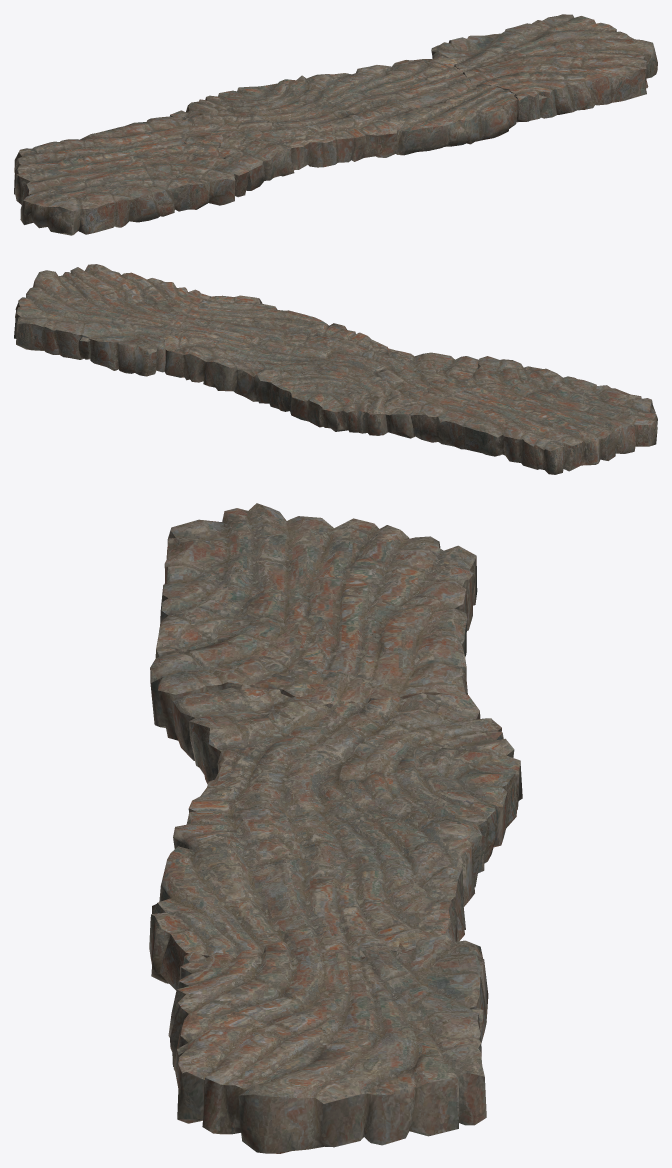
The model's file is bg_rad_kamen_rockfloor03_sm.obj.
The picture shows the model from 3 angles, top to bottom: view 1: azimuth 30°, elevation 25°; view 2: azimuth 150°, elevation 25°; view 3: azimuth 270°, elevation 25°; orthographic projection. The views are drawn at different scales.
Visible parts, largest first — view 1: bg_rad_kamen_rockfloor03_sm_0, bg_rad_kamen_rockfloor03_sm_1; view 2: bg_rad_kamen_rockfloor03_sm_0, bg_rad_kamen_rockfloor03_sm_1; view 3: bg_rad_kamen_rockfloor03_sm_0, bg_rad_kamen_rockfloor03_sm_1.
Part boxes in pixels (<box>): bg_rad_kamen_rockfloor03_sm_0: <box>14,14,657,235</box>; bg_rad_kamen_rockfloor03_sm_1: <box>170,56,517,190</box>; bg_rad_kamen_rockfloor03_sm_0: <box>14,264,657,474</box>; bg_rad_kamen_rockfloor03_sm_1: <box>159,295,478,438</box>; bg_rad_kamen_rockfloor03_sm_0: <box>150,503,488,1153</box>; bg_rad_kamen_rockfloor03_sm_1: <box>149,670,522,990</box>.
Size of the model in its own units: 11.31 by 0.5899 by 2.96.
Materials: 2 (2 with a texture image).
